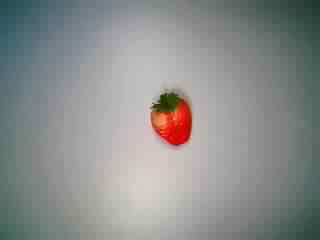strawberry: (136, 84, 204, 148)
